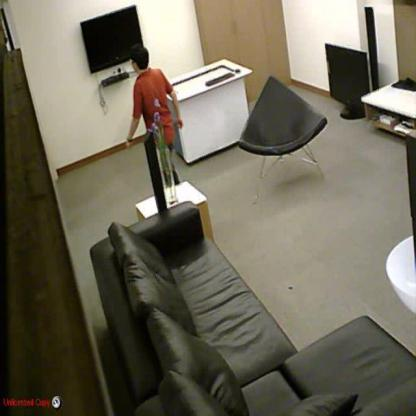Person: (125, 45, 184, 183)
